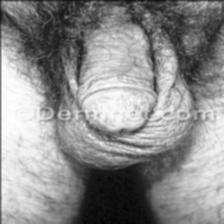Non-Cancerous Skin Condition: (61, 84, 192, 164)
